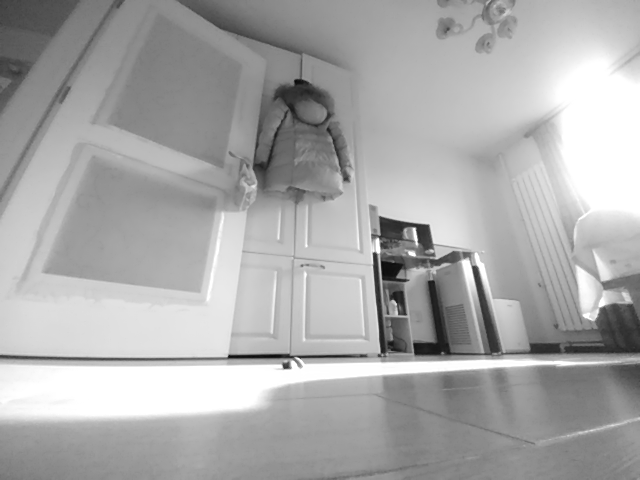curtain: (531, 112, 640, 358)
pet feces: (283, 355, 307, 371)
